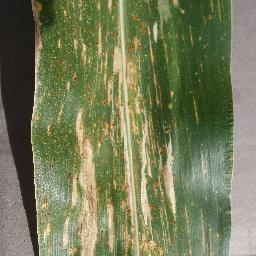Gray_Leaf_Spot: (18, 0, 185, 256), (184, 208, 222, 256), (189, 85, 204, 129), (185, 12, 200, 49), (210, 0, 226, 19), (194, 62, 207, 83), (218, 53, 230, 64)
